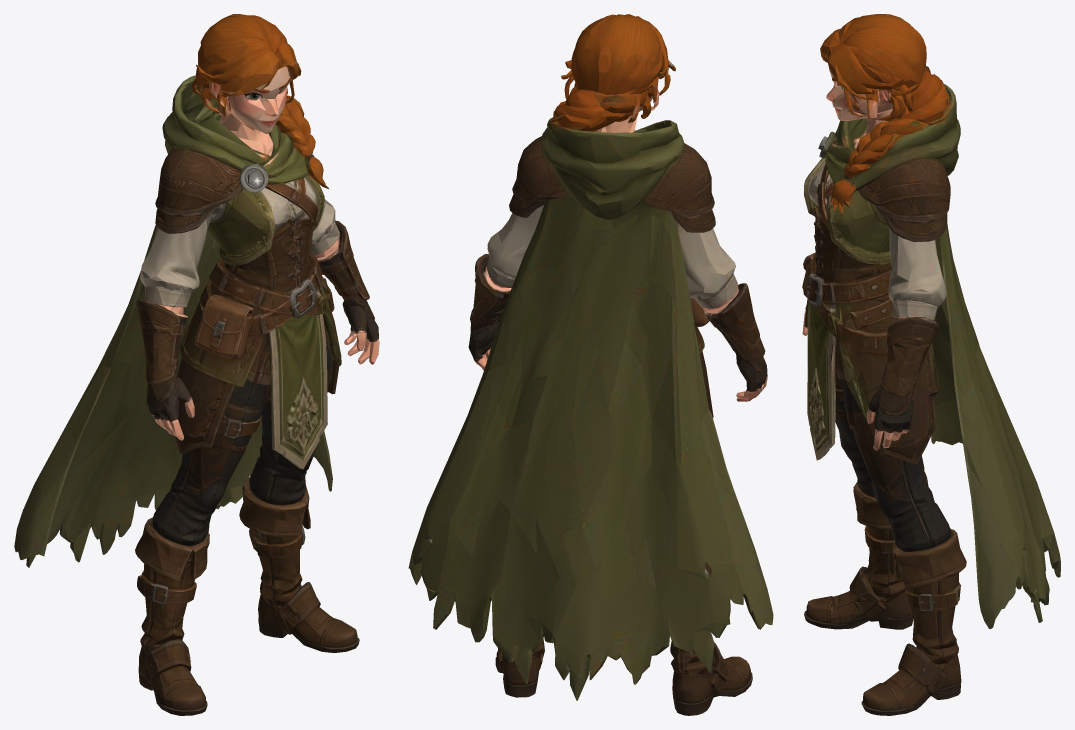
The model's file is ranger.glb.
3 views of the same model, side by side, from view 1: azimuth 30°, elevation 25°; view 2: azimuth 150°, elevation 25°; view 3: azimuth 270°, elevation 25° (orthographic). The views are drawn at different scales.
Visible parts, largest first — view 1: Mesh_0; view 2: Mesh_0; view 3: Mesh_0.
Part boxes in pixels (x1,y1,x2,y2): Mesh_0: [14, 14, 379, 715]; Mesh_0: [408, 14, 773, 715]; Mesh_0: [802, 14, 1060, 715].
Bounding box in the file's own units: 1.01 × 1.9 × 0.6906.
1 material, 1 textured.
